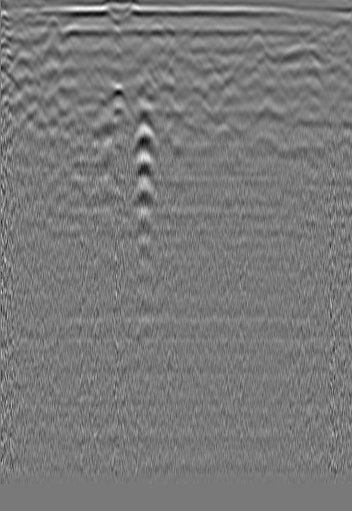가스: (122, 173, 158, 212)
상수: (35, 16, 70, 47)
오수: (320, 16, 351, 48)
우수: (177, 25, 213, 51)
